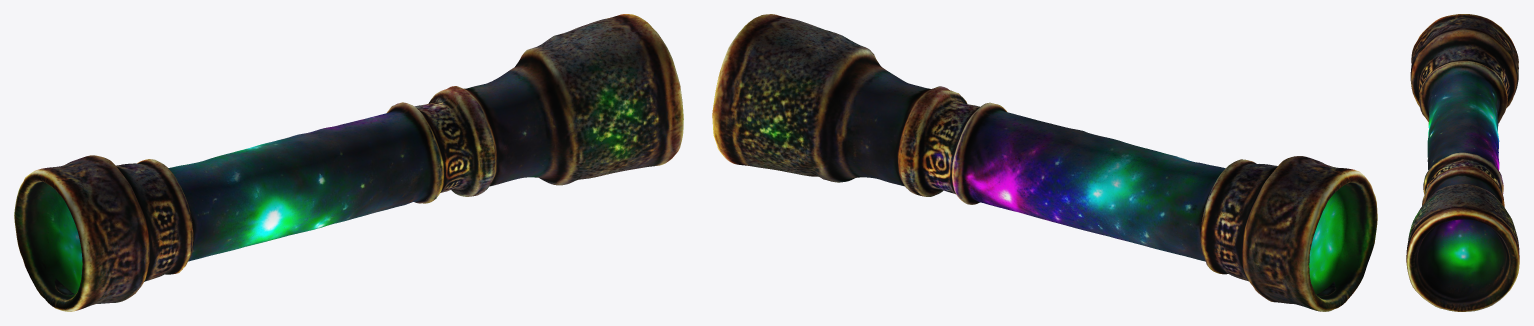
Rendered from linterna_verde.fbx.
The picture shows the model from 3 angles, left to right: view 1: azimuth 30°, elevation 25°; view 2: azimuth 150°, elevation 25°; view 3: azimuth 270°, elevation 25°; orthographic projection. The views are drawn at different scales.
Parts seen in each view (by area): view 1: obj1; view 2: obj1; view 3: obj1.
Boxes of the visible parts, box(x1,y1,x2,y2) form: obj1: box(14, 14, 683, 311); obj1: box(712, 14, 1377, 311); obj1: box(1406, 14, 1519, 311).
Size of the model in its own units: 99.88 by 23.48 by 22.7.
Materials: 1 (1 with a texture image).
